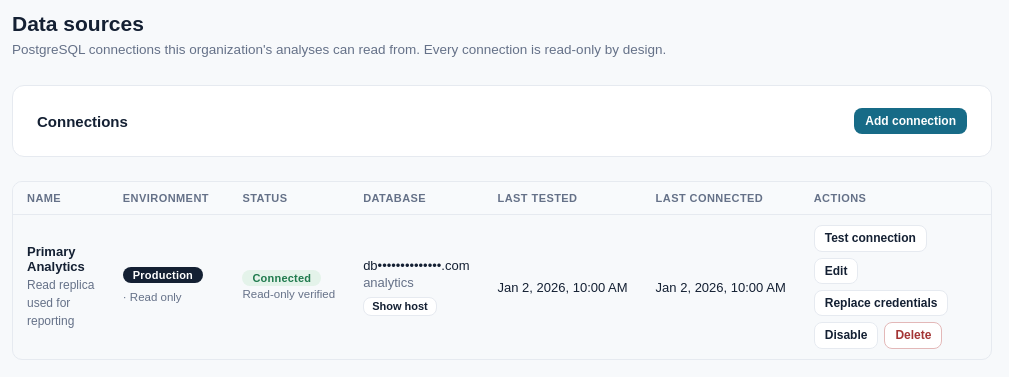
DataSourcesSettings › never displays the host in full by default
Check: the text "Primary Analytics" is shown, box [27, 244, 95, 274]
Check: the text "db.internal.acme.com" is not shown
Click the button "Show host": click(400, 306) [363, 297, 437, 316]
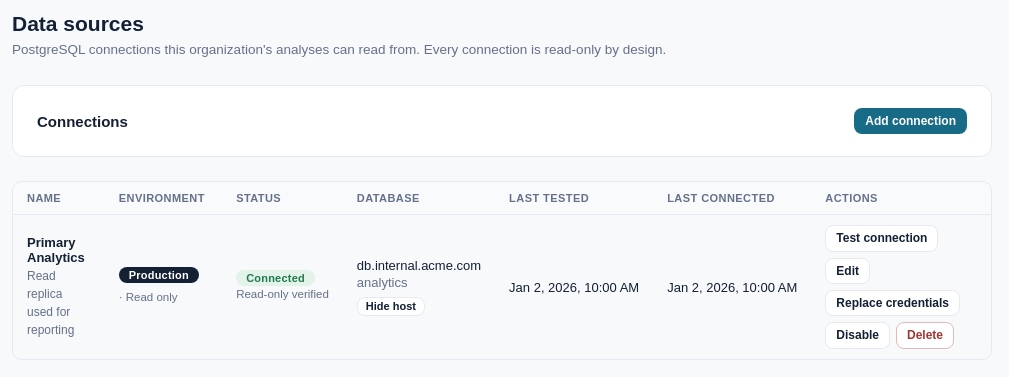
Check: the text "db.internal.acme.com" is shown, box [357, 258, 481, 273]
